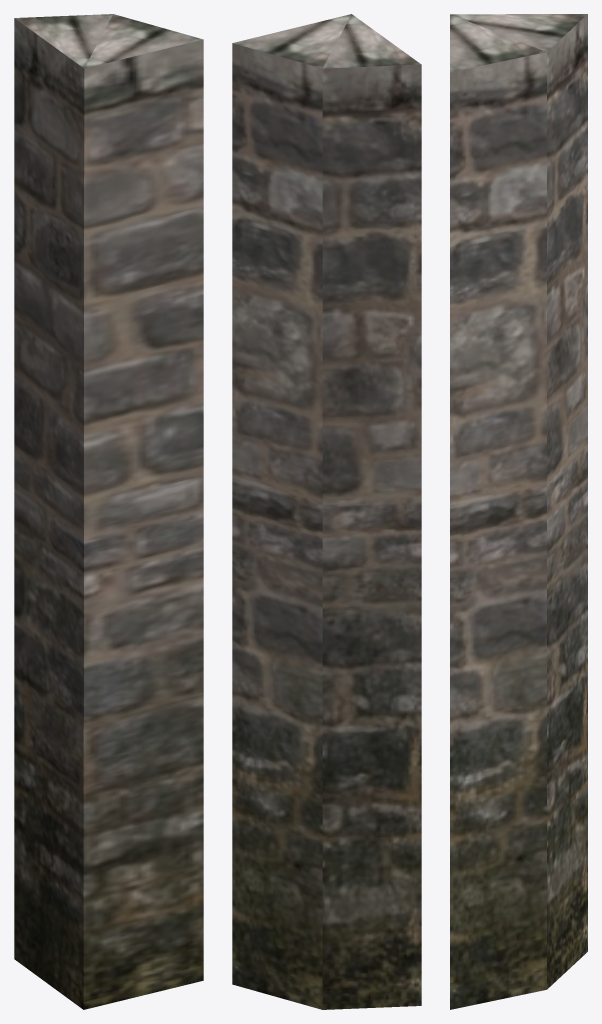
File: LowWallStone_Corner.fbx
3 views of the same model, side by side, from view 1: azimuth 30°, elevation 25°; view 2: azimuth 210°, elevation 25°; view 3: azimuth 270°, elevation 25° (orthographic).
Parts seen in each view (by area): view 1: lod_high; view 2: lod_high; view 3: lod_high.
Part boxes in pixels (bbox=[...]): lod_high: bbox=[14, 14, 203, 1009]; lod_high: bbox=[232, 14, 421, 1009]; lod_high: bbox=[450, 14, 587, 1009].
Size of the model in its own units: 100 by 750 by 100.
Materials: 1 (1 with a texture image).
